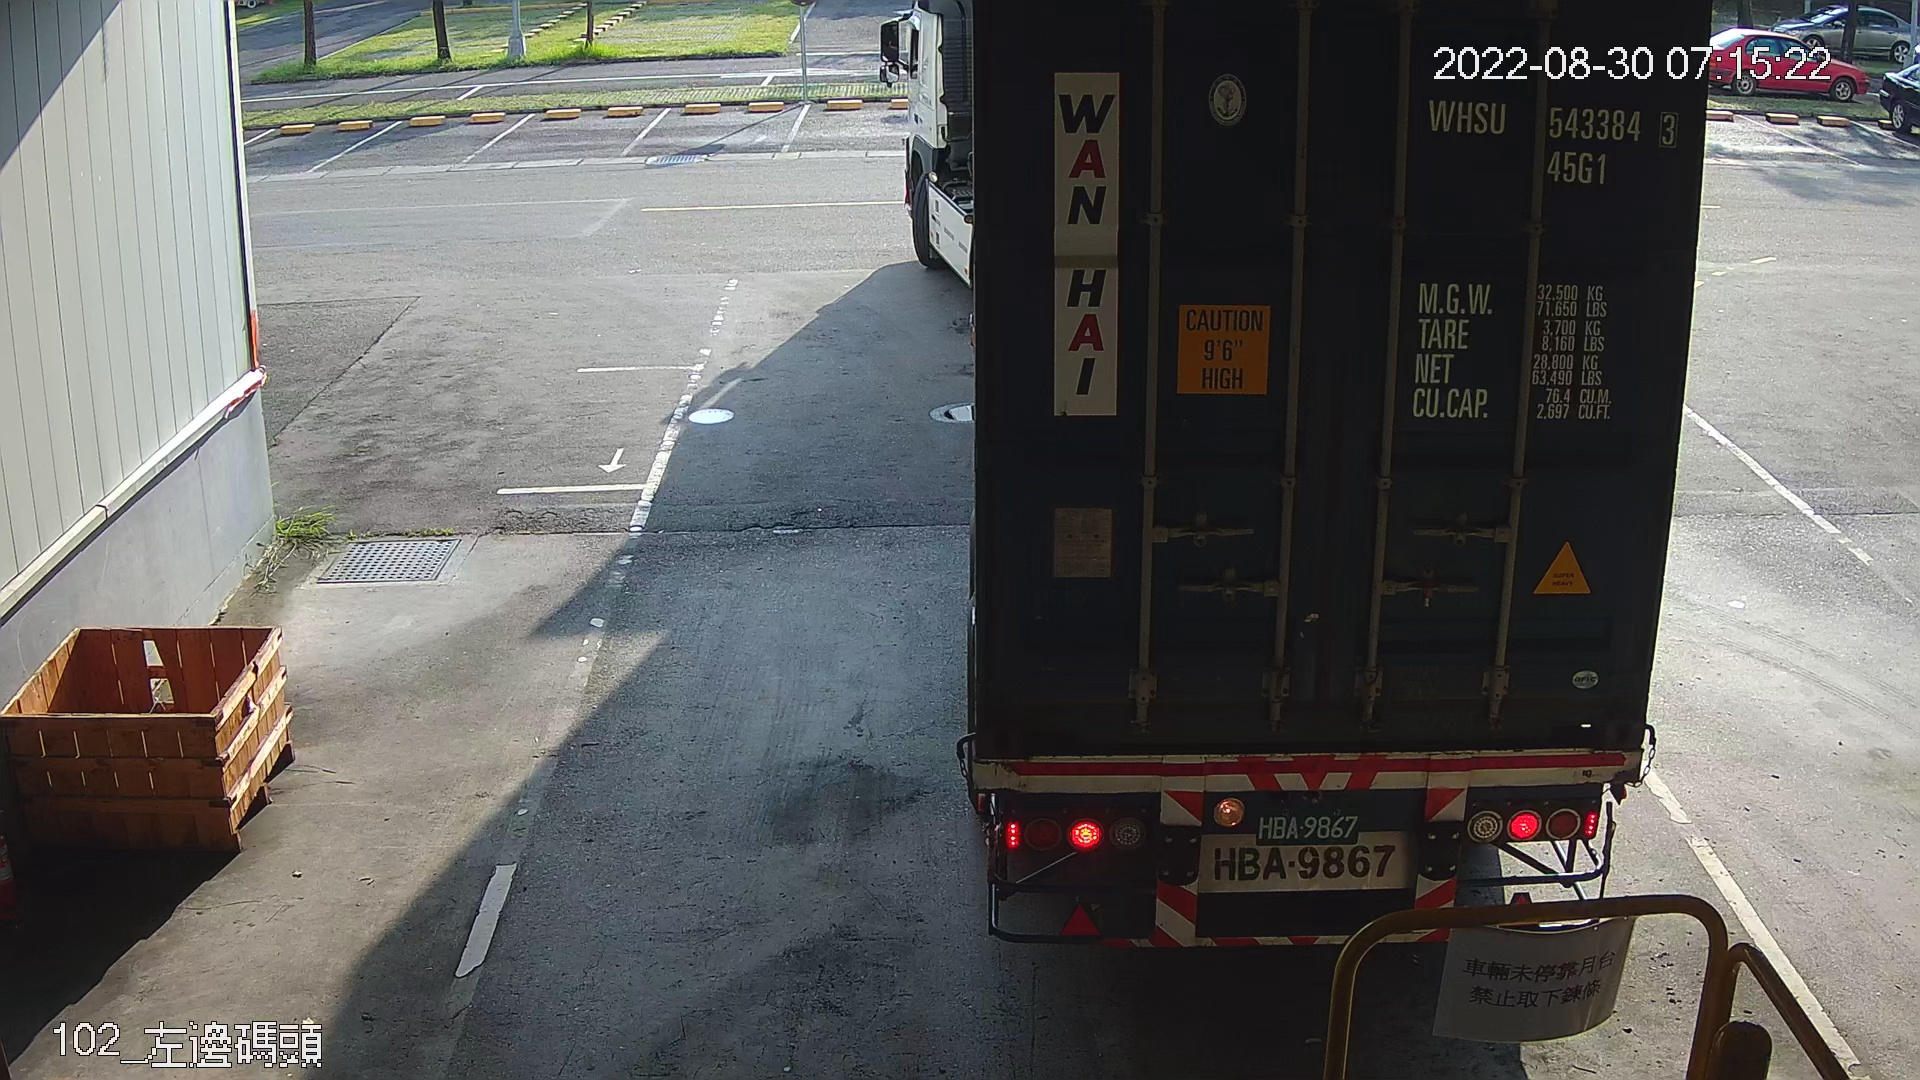container: (1420, 86, 1689, 196)
